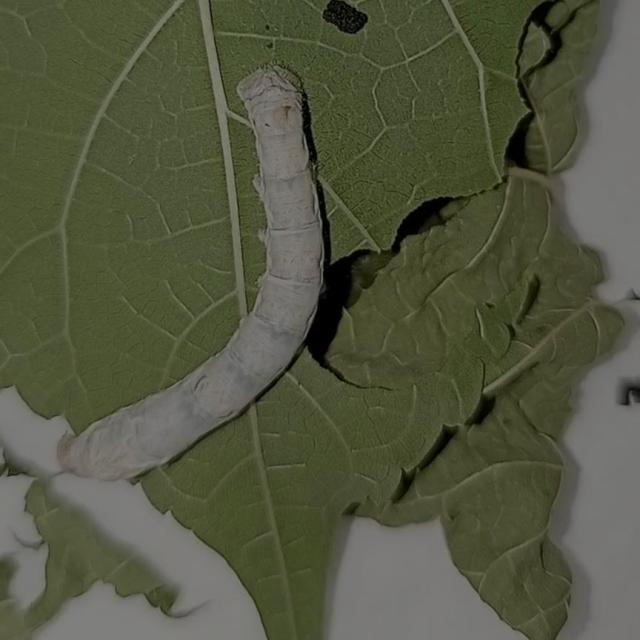Healthy: (48, 52, 382, 490)
